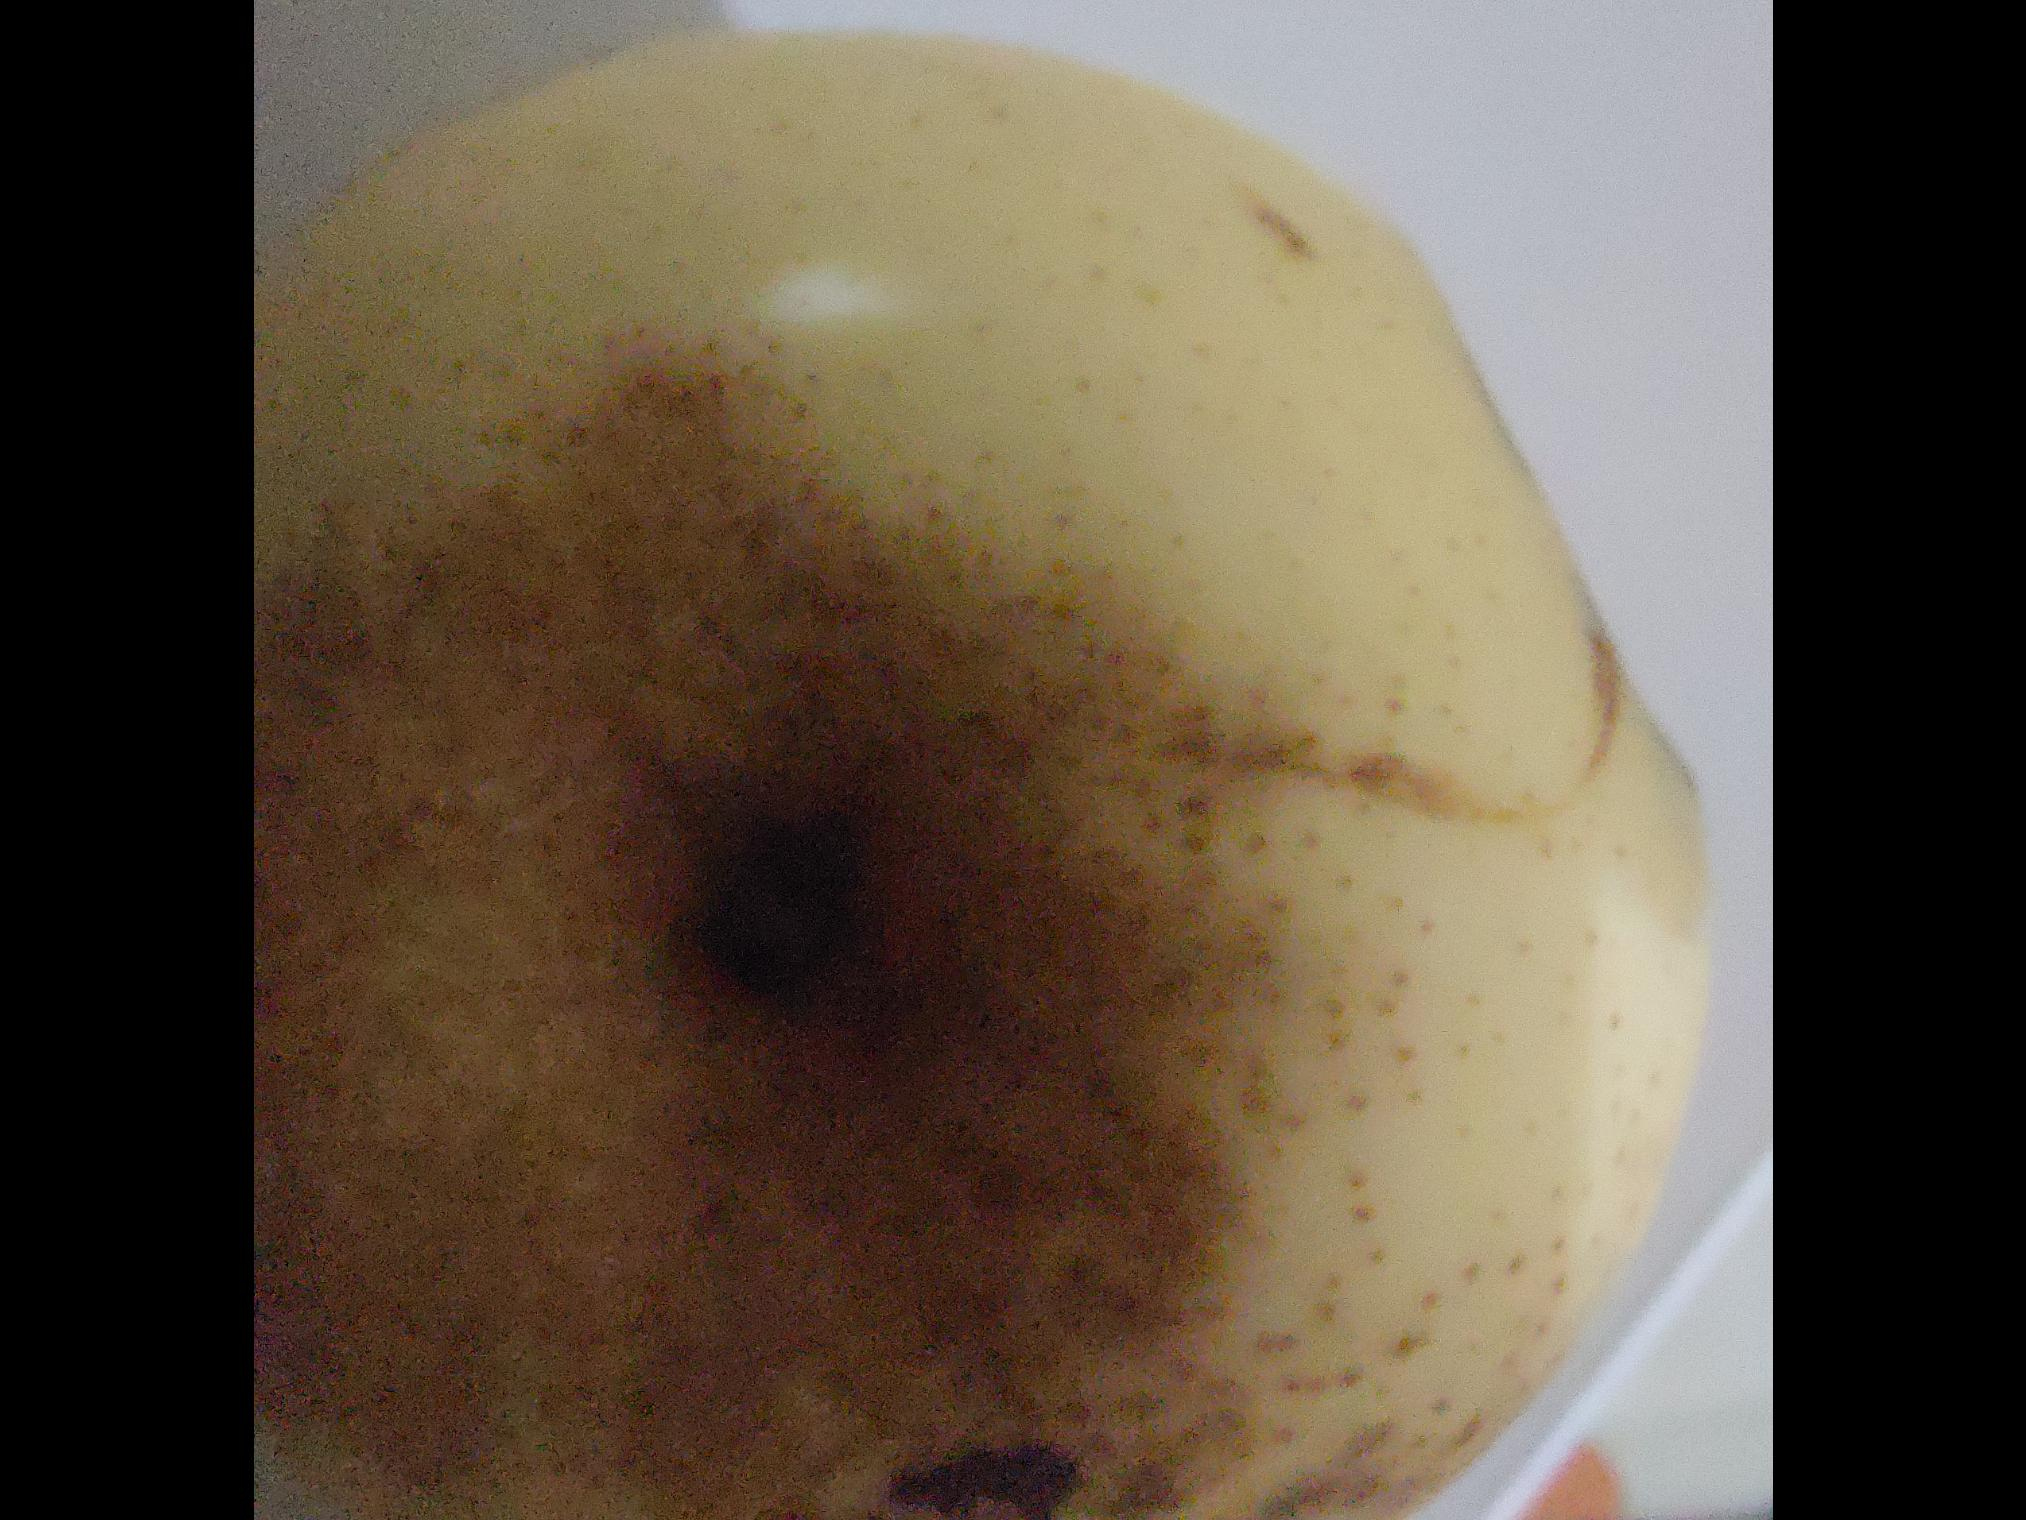Bad Pear: (252, 18, 1707, 1520)
